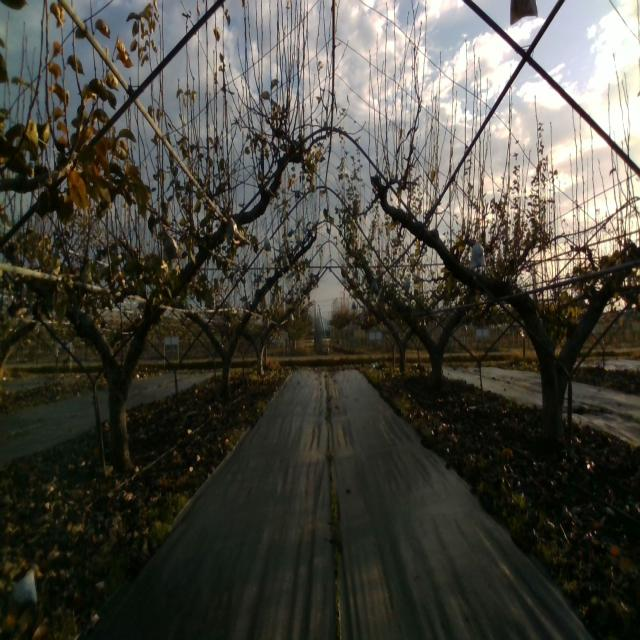pearbags: (162, 232, 182, 263), (469, 243, 486, 270), (224, 217, 240, 242)
